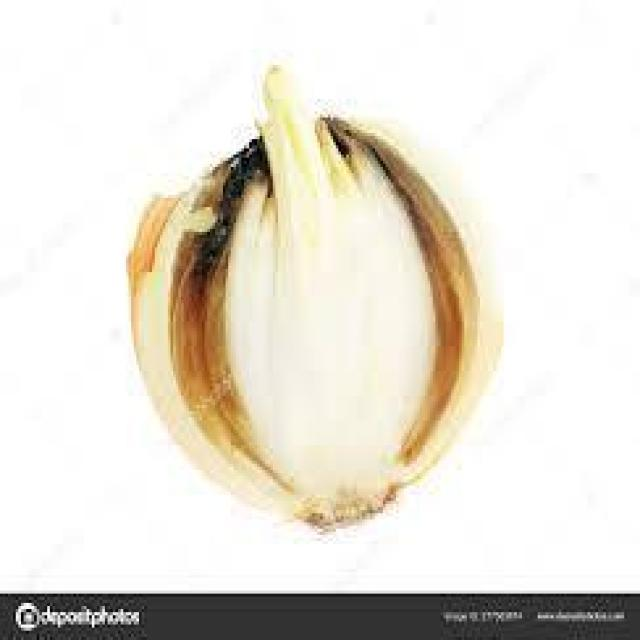Onion: (124, 56, 512, 541)
